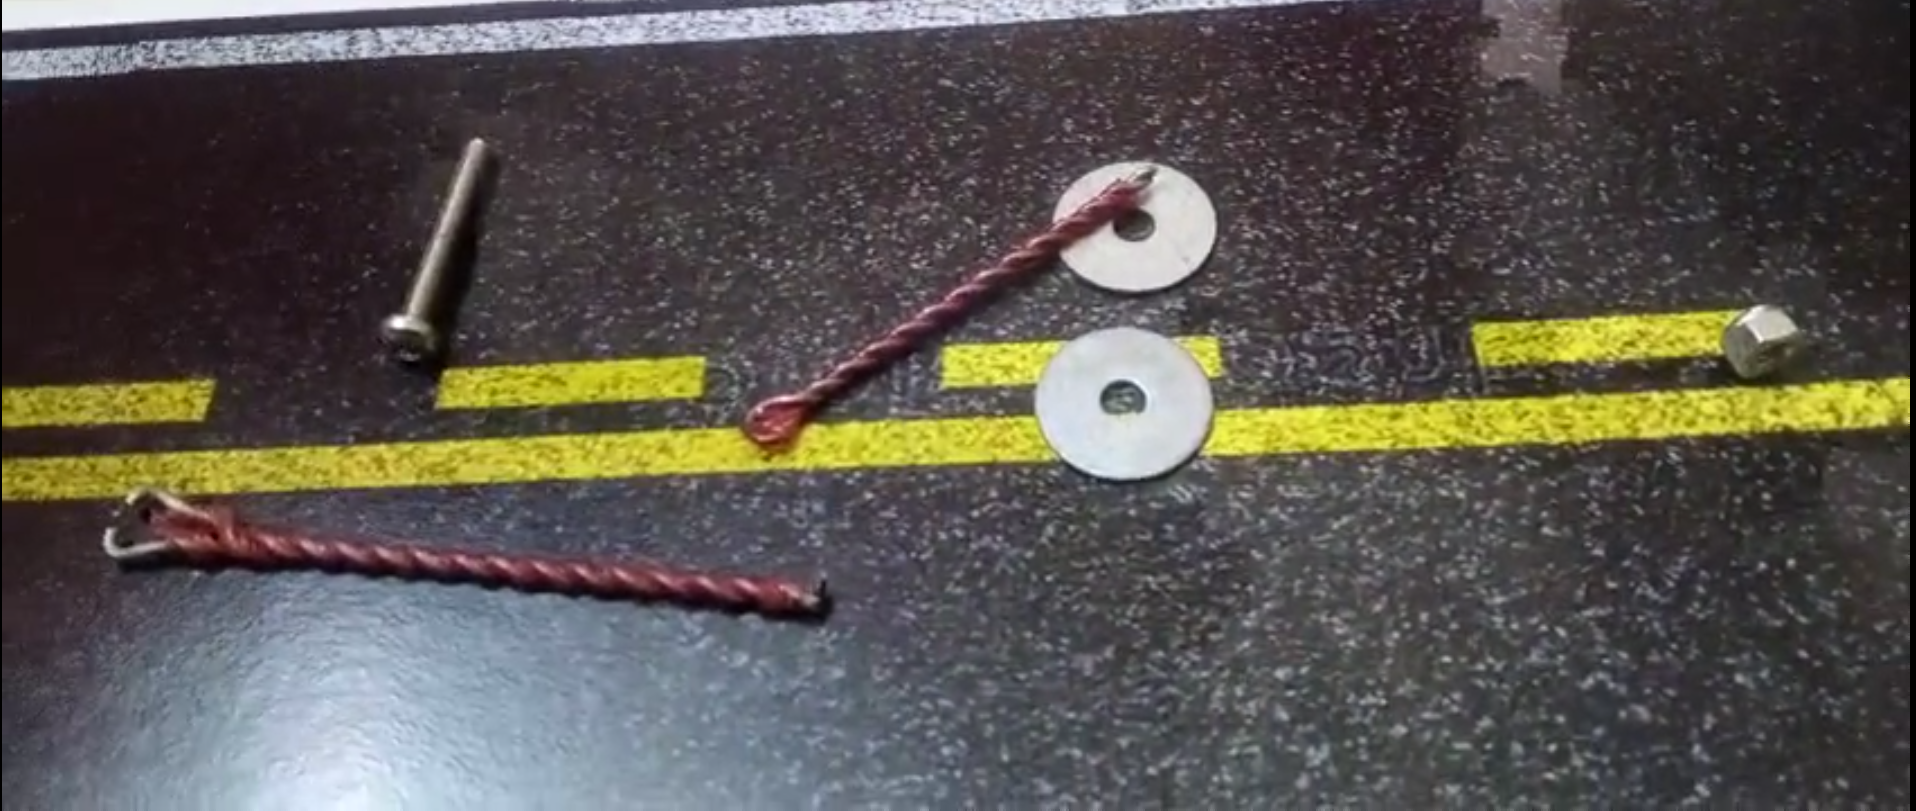metal: (97, 482, 848, 649), (368, 111, 495, 364), (1025, 318, 1216, 481), (1053, 160, 1216, 291)
